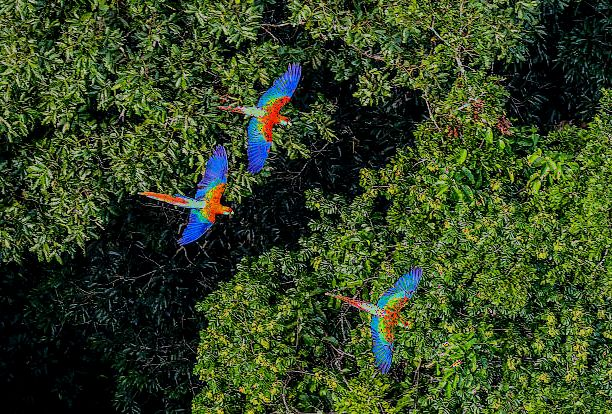Bird: (138, 142, 236, 253), (325, 264, 421, 376), (220, 58, 303, 176)
